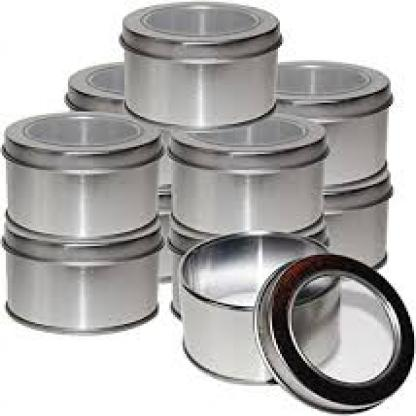METAL: (251, 252, 410, 413), (177, 228, 338, 382), (0, 109, 158, 247), (119, 0, 274, 129), (169, 112, 323, 236), (169, 216, 327, 317), (2, 228, 155, 331), (270, 60, 385, 195), (66, 64, 169, 191), (311, 179, 385, 271), (158, 186, 171, 280)
